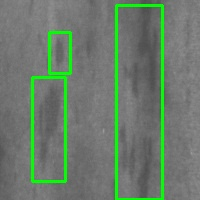inclusion: (116, 6, 162, 199), (32, 77, 65, 181), (49, 32, 70, 73)
